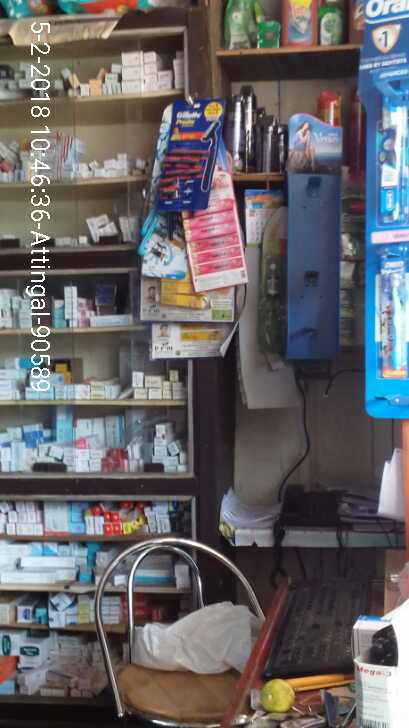beauty: (156, 98, 218, 212)
pharmacy: (372, 248, 409, 385), (377, 94, 409, 226)
